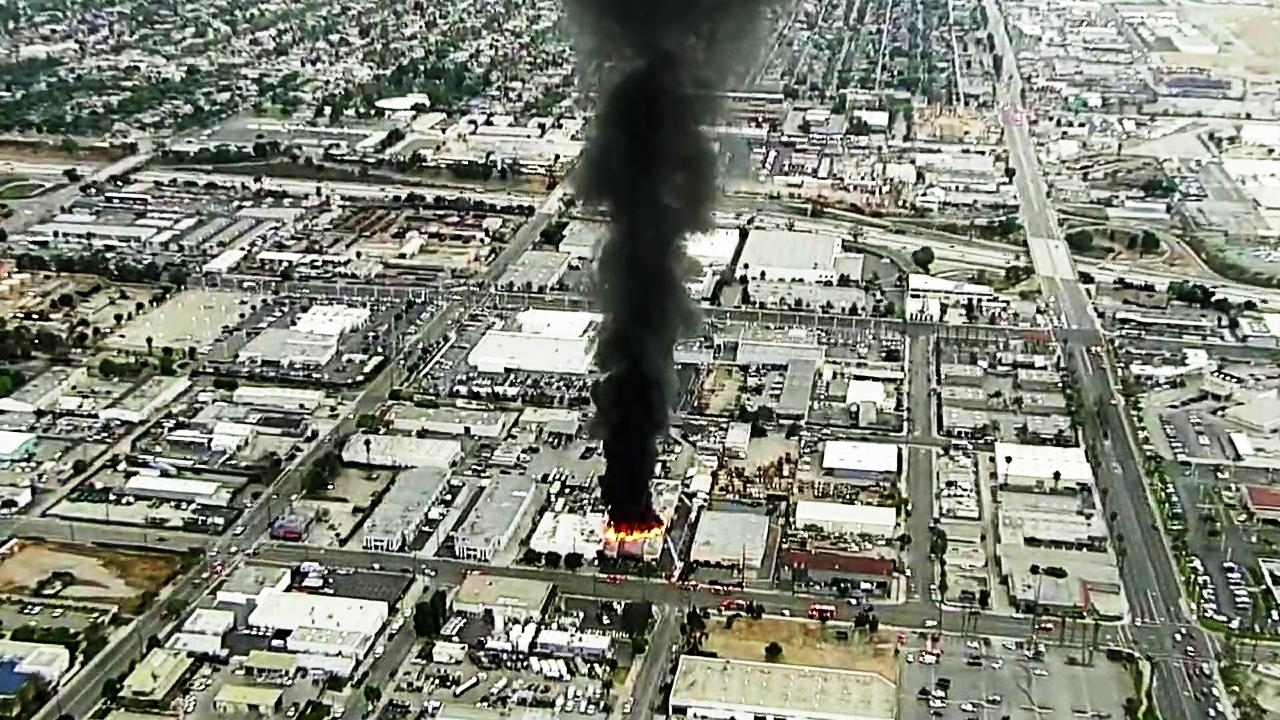smoke: (612, 88, 674, 520)
